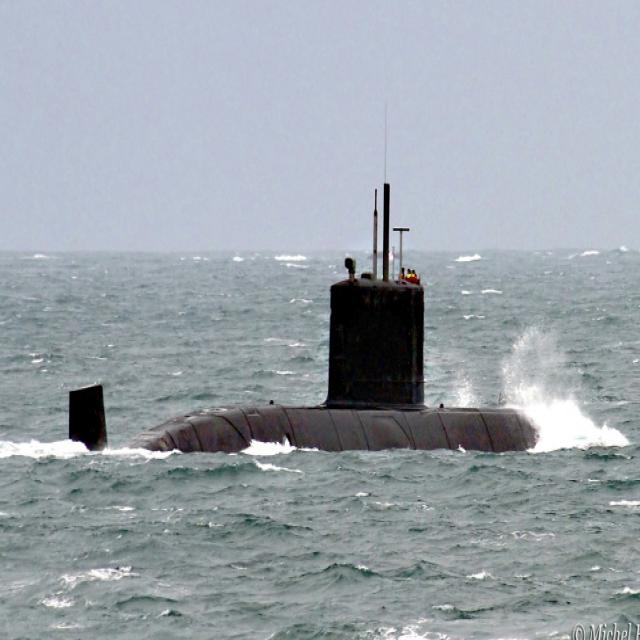submarine: (65, 181, 545, 451)
